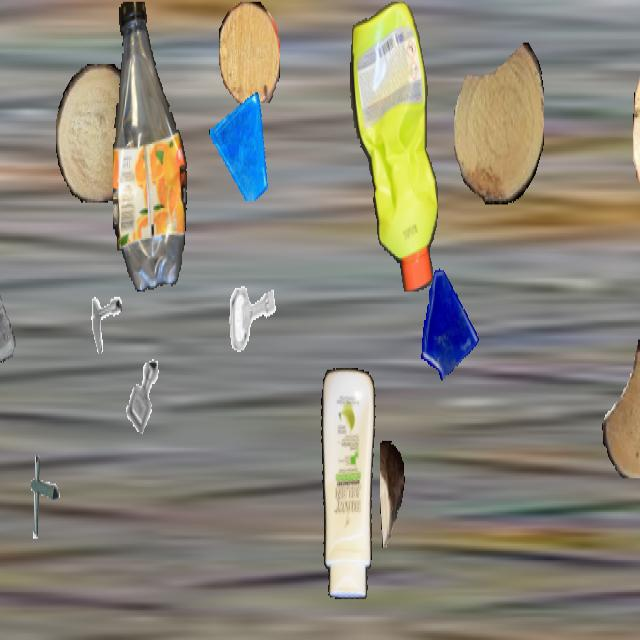glass: (415, 263, 481, 381), (209, 89, 271, 199), (0, 262, 25, 382)
metal: (221, 263, 281, 370), (115, 347, 171, 446), (16, 450, 68, 542), (80, 277, 122, 352)
plastic: (349, 2, 439, 290), (113, 2, 189, 290), (314, 368, 378, 599)
wood: (454, 41, 544, 204), (56, 64, 138, 203), (219, 2, 279, 105), (602, 340, 640, 478), (380, 441, 404, 547), (633, 25, 640, 249)
